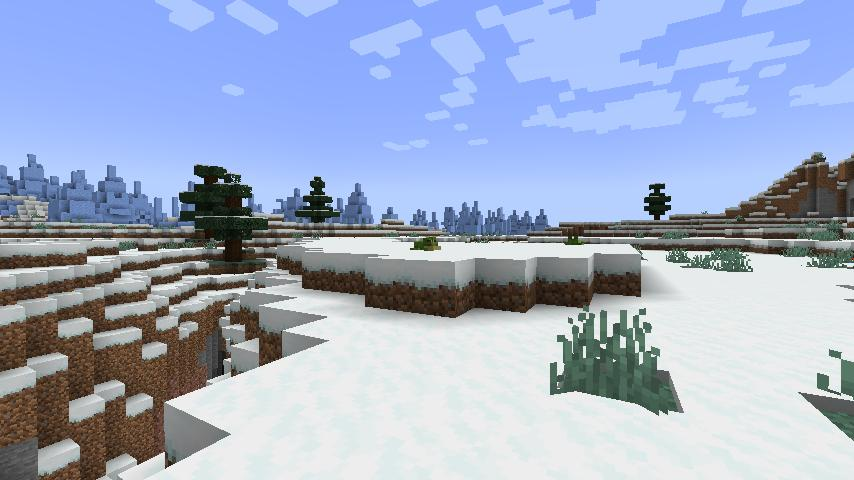frog: (407, 234, 441, 255)
